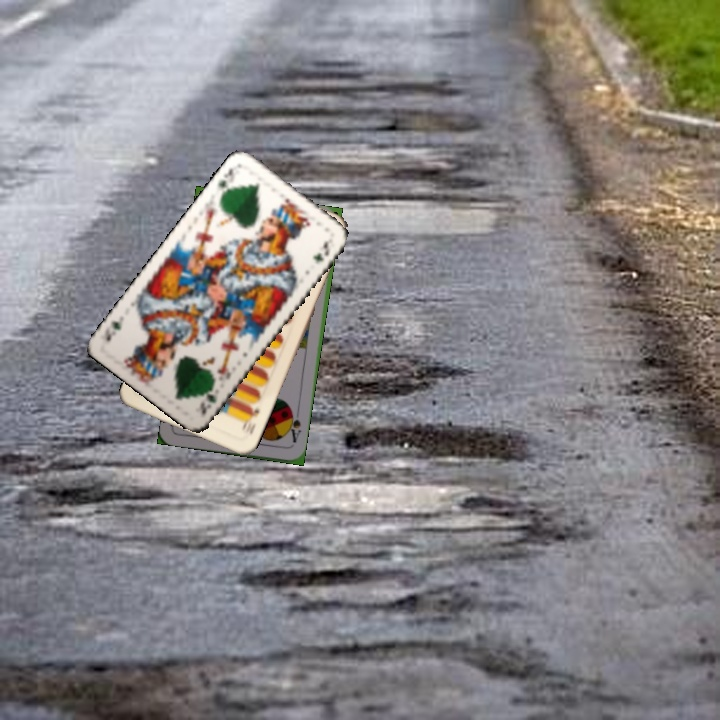E10: (238, 401, 262, 437)
GK: (212, 161, 239, 198), (196, 380, 219, 418)
SA: (284, 406, 304, 445)
